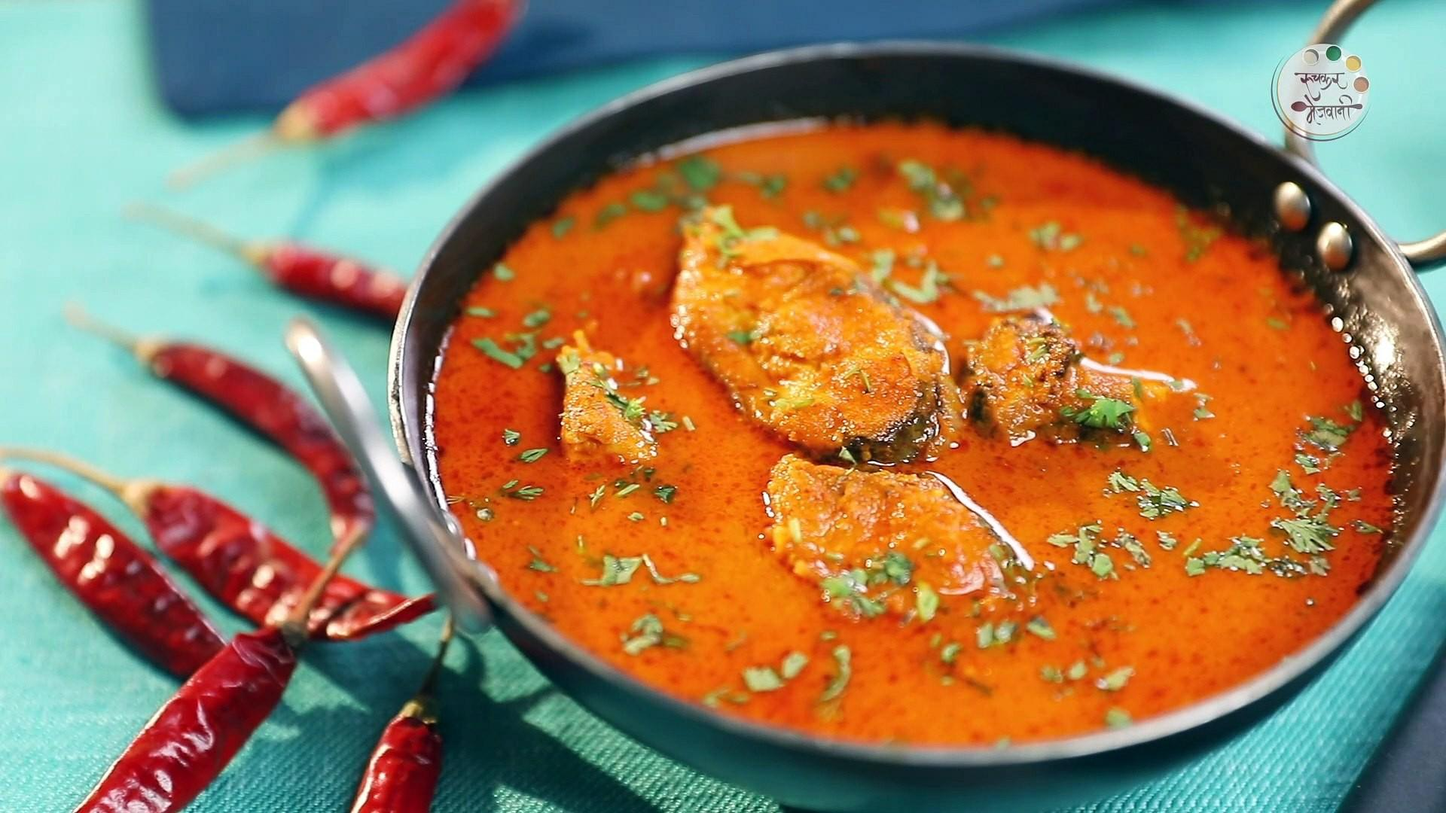FishCurry: (433, 120, 1396, 748)
